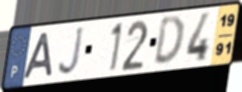1: (109, 21, 125, 73)
2: (121, 17, 151, 73)
4: (184, 10, 213, 64)
A: (21, 31, 54, 81)
D: (152, 14, 186, 67)
J: (57, 25, 86, 78)
